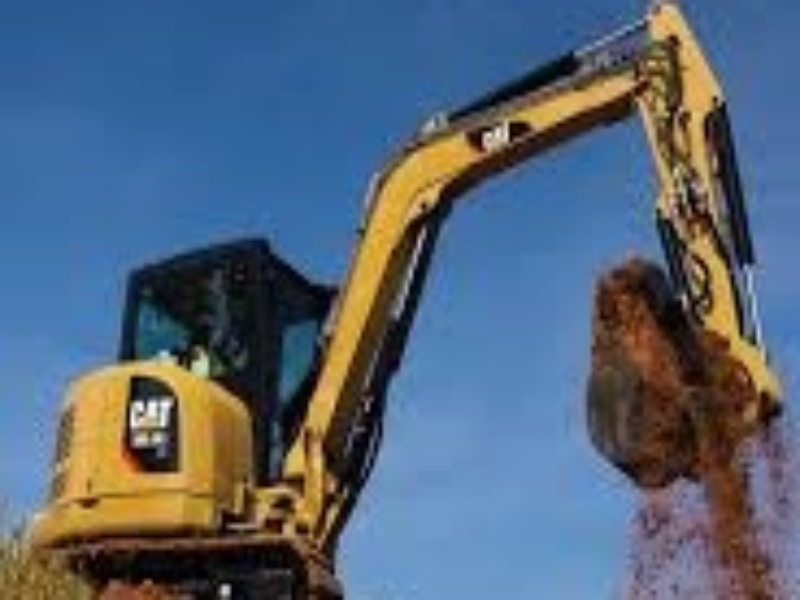wajueji: (28, 201, 453, 600)
